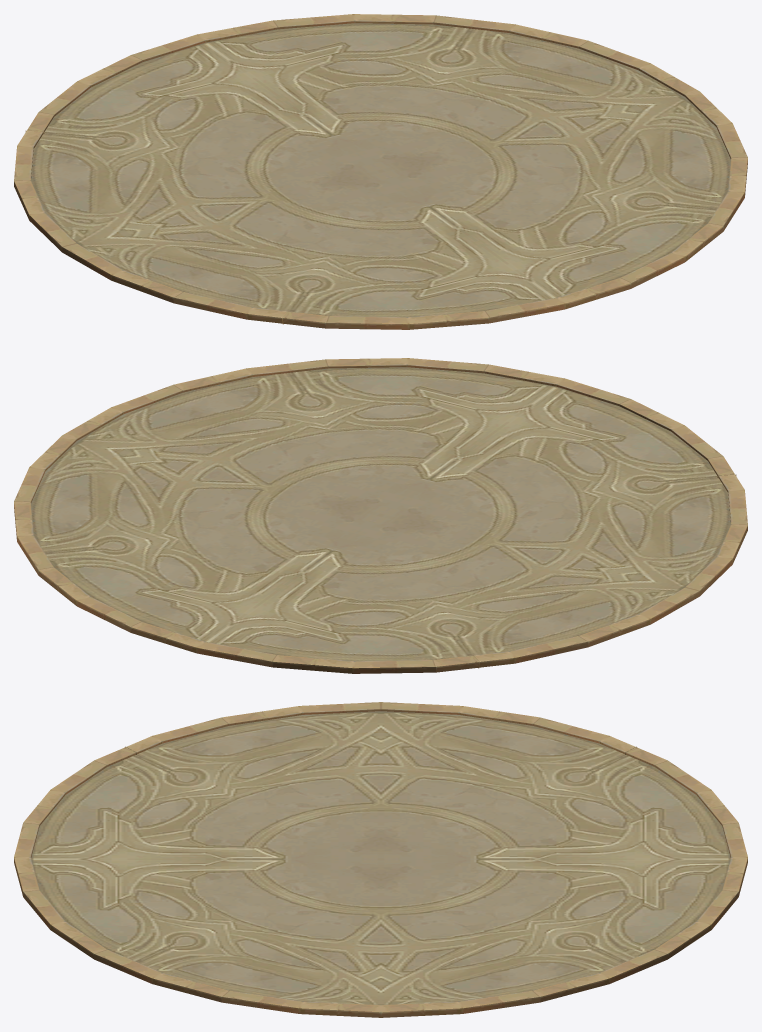
Rendered from S_Build_City015_A1.FBX.
The picture shows the model from 3 angles, top to bottom: view 1: azimuth 30°, elevation 25°; view 2: azimuth 150°, elevation 25°; view 3: azimuth 270°, elevation 25°; orthographic projection.
Parts seen in each view (by area): view 1: S_Build_City015_A1; view 2: S_Build_City015_A1; view 3: S_Build_City015_A1.
Part boxes in pixels (bbox=[...]): S_Build_City015_A1: bbox=[14, 14, 747, 329]; S_Build_City015_A1: bbox=[14, 358, 747, 673]; S_Build_City015_A1: bbox=[14, 702, 747, 1017].
Bounding box in the file's own units: 14272 × 137 × 14271.
Materials: 1 (1 with a texture image).
